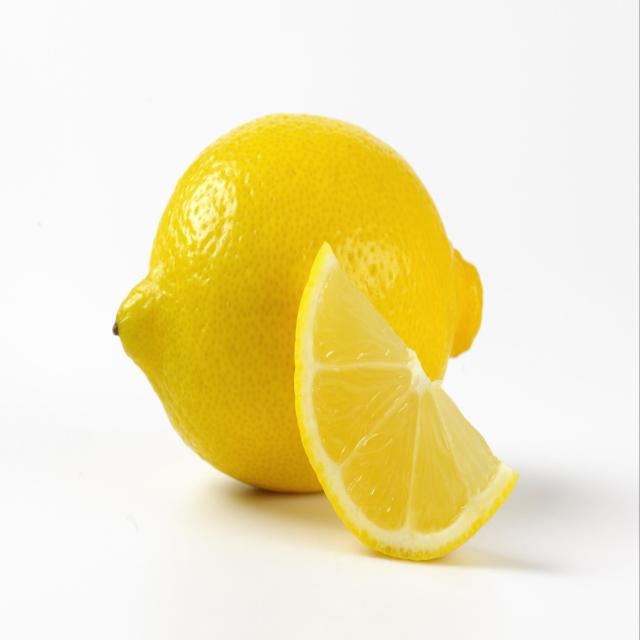lemon: (106, 109, 488, 500), (289, 240, 523, 569)
